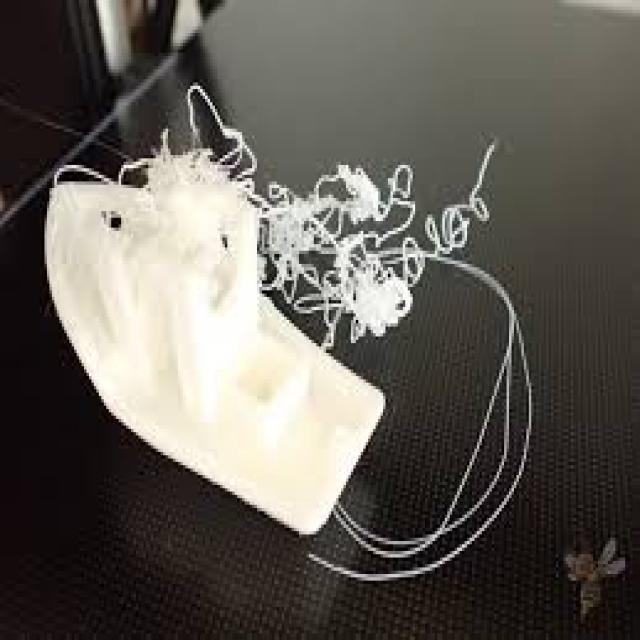spaghetti: (267, 146, 529, 349), (92, 120, 254, 205)
